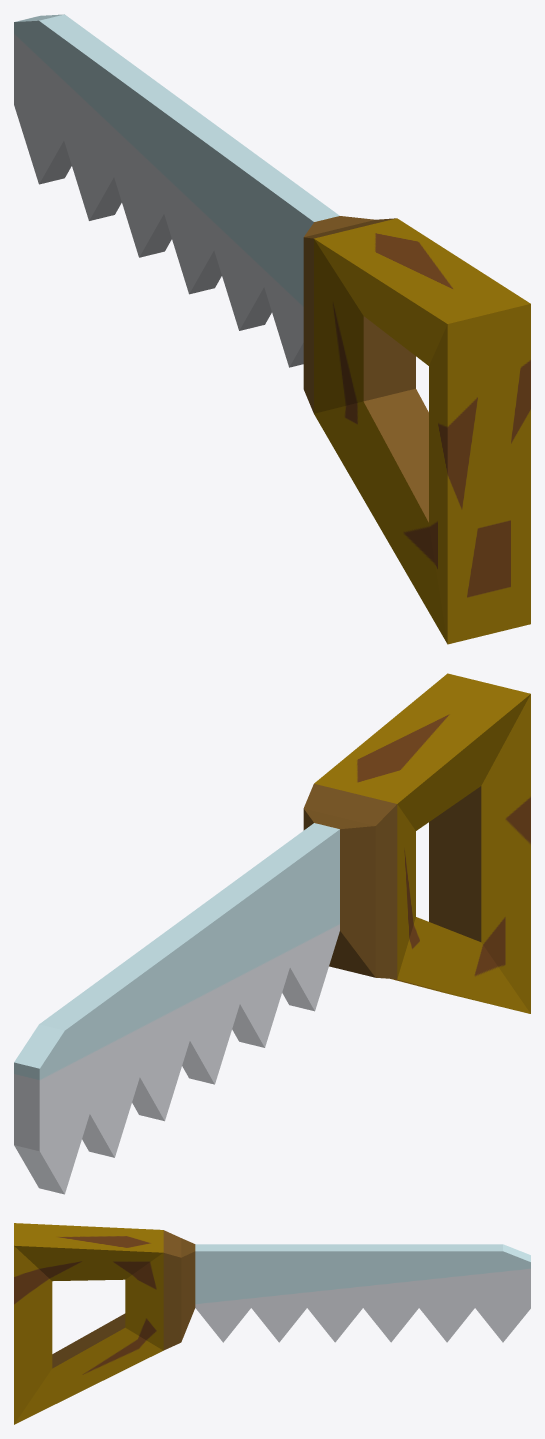
Rendered from ITSW_Sierra.FBX.
3 views of the same model, one above another, from view 1: azimuth 30°, elevation 25°; view 2: azimuth 150°, elevation 25°; view 3: azimuth 270°, elevation 25° (orthographic). The views are drawn at different scales.
Parts seen in each view (by area): view 1: ITSW_Sierra; view 2: ITSW_Sierra; view 3: ITSW_Sierra.
Part boxes in pixels (<box>): ITSW_Sierra: <box>14,14,530,644</box>; ITSW_Sierra: <box>14,673,530,1194</box>; ITSW_Sierra: <box>14,1223,530,1424</box>.
Bounding box in the file's own units: 0.156 × 0.5729 × 1.5.
